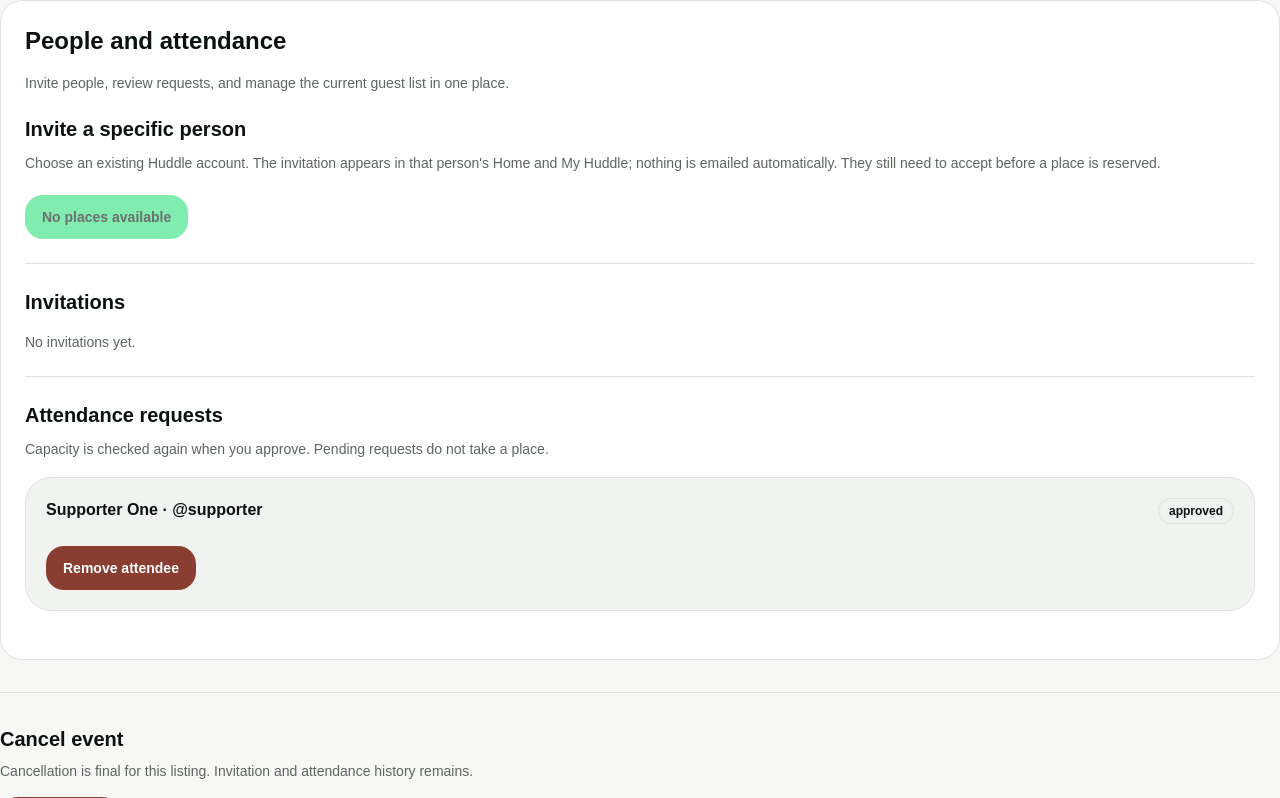
Test: EventManagementControls › keeps the removal reason after rejection and closes only after successful retry
Click the button "Remove attendee" at (121, 568), box [46,546,196,590]
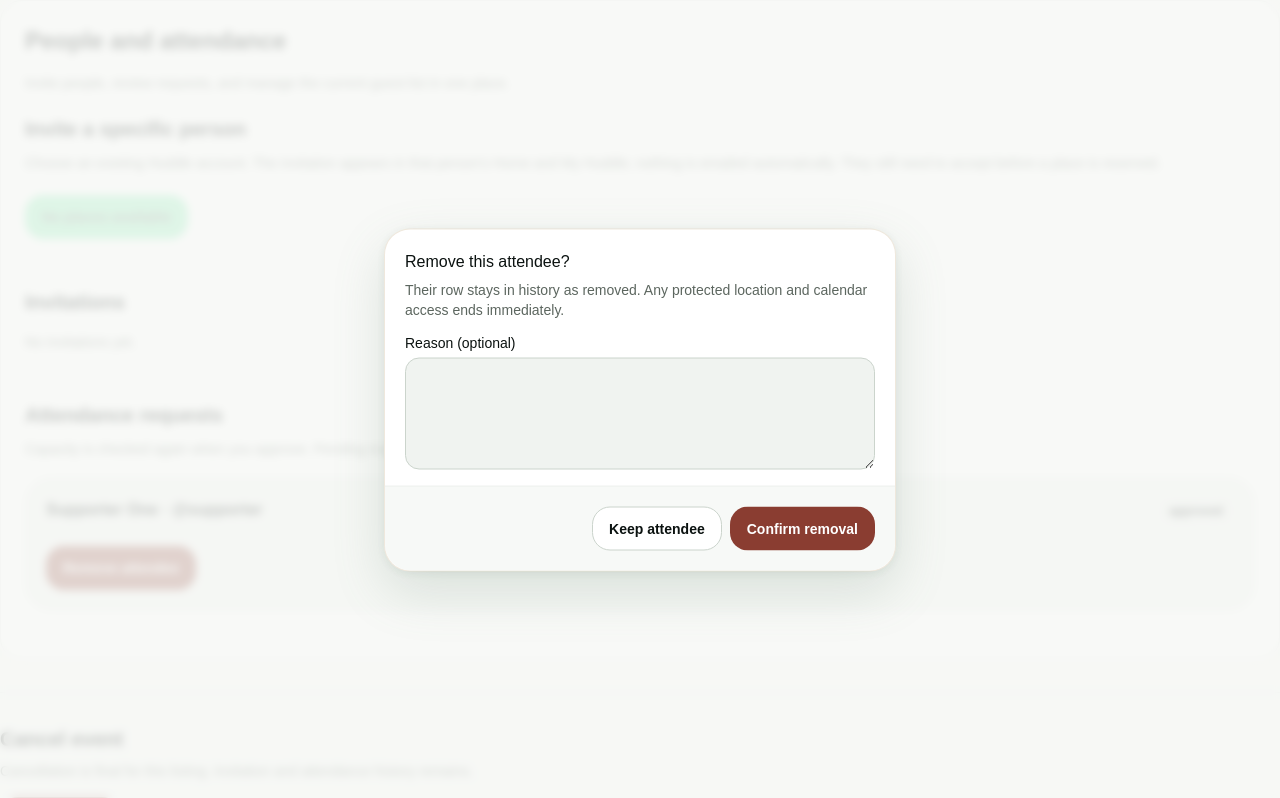
Type "No longer attending" into the text box labelled "Reason (optional)" at (640, 414), box [405,358,875,470]
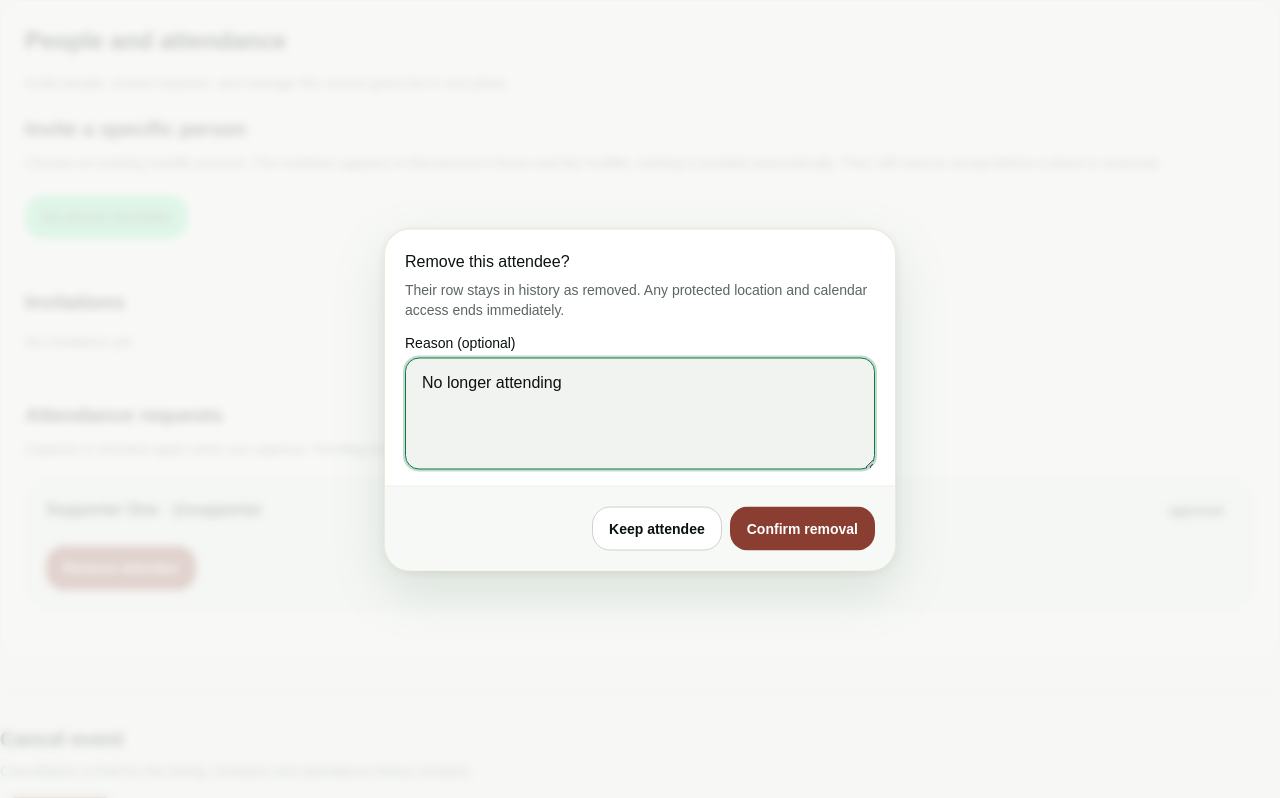
Click the button "Confirm removal" at (802, 528), box [730,506,875,550]
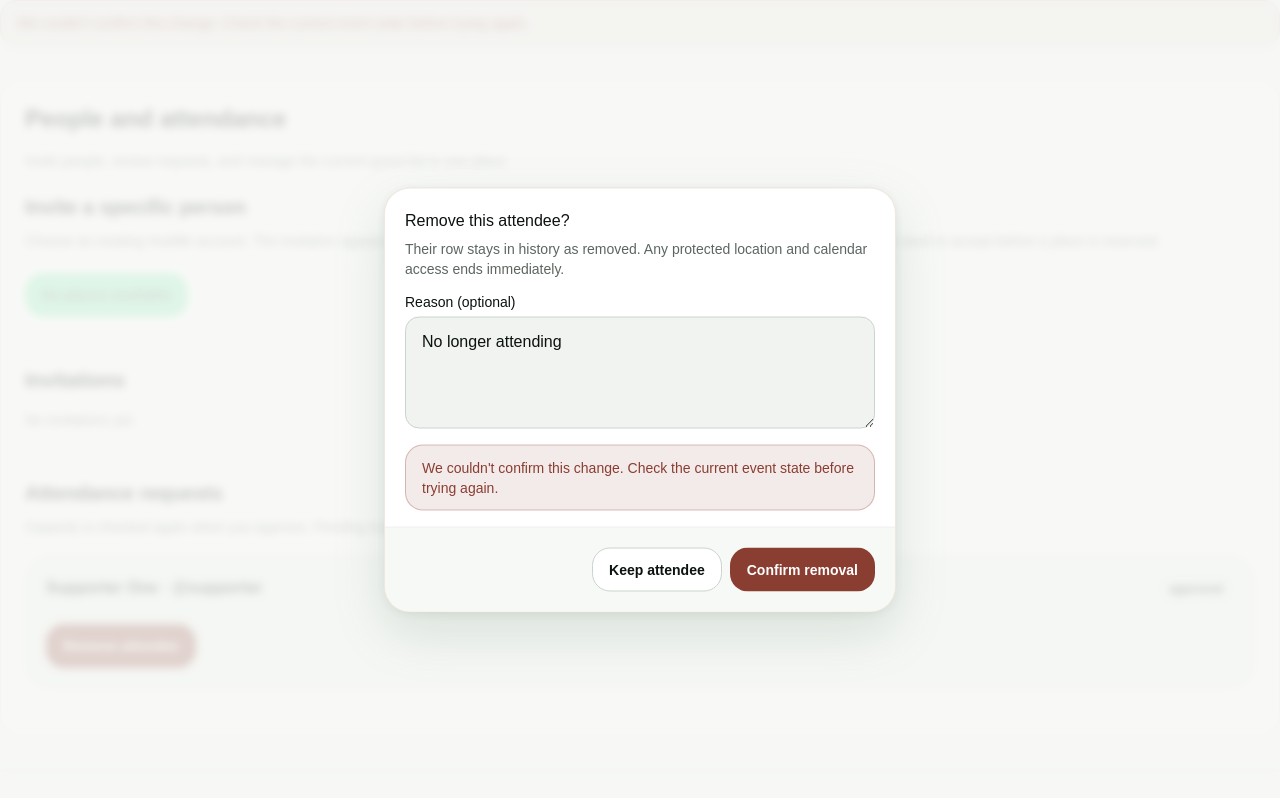
Check: the message shows "couldn't confirm", box [422,460,854,496]
Click the button "Confirm removal" at (802, 570), box [730,548,875,592]
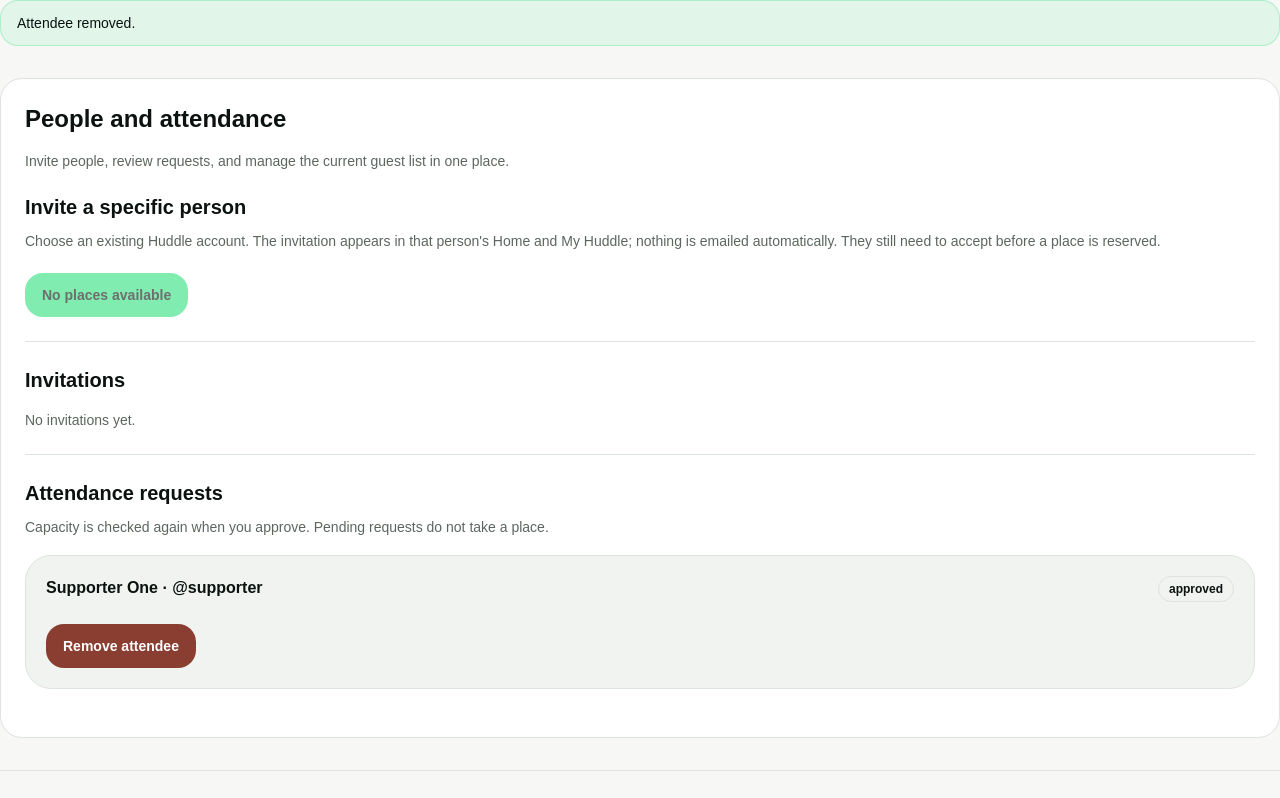
Check: the dialog is gone
